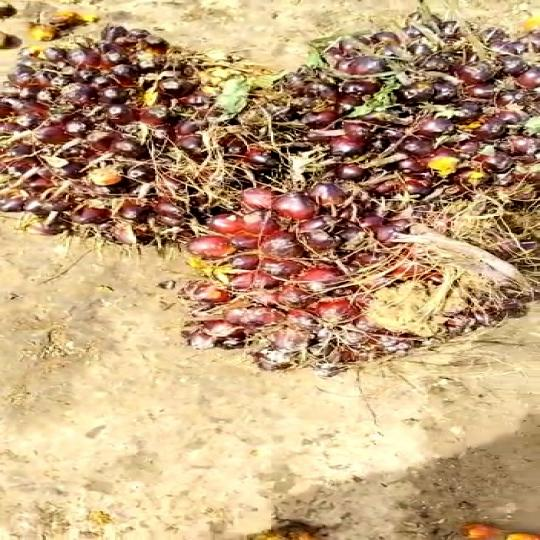kurang masak: (148, 176, 522, 356), (0, 16, 250, 243), (268, 13, 540, 208)
